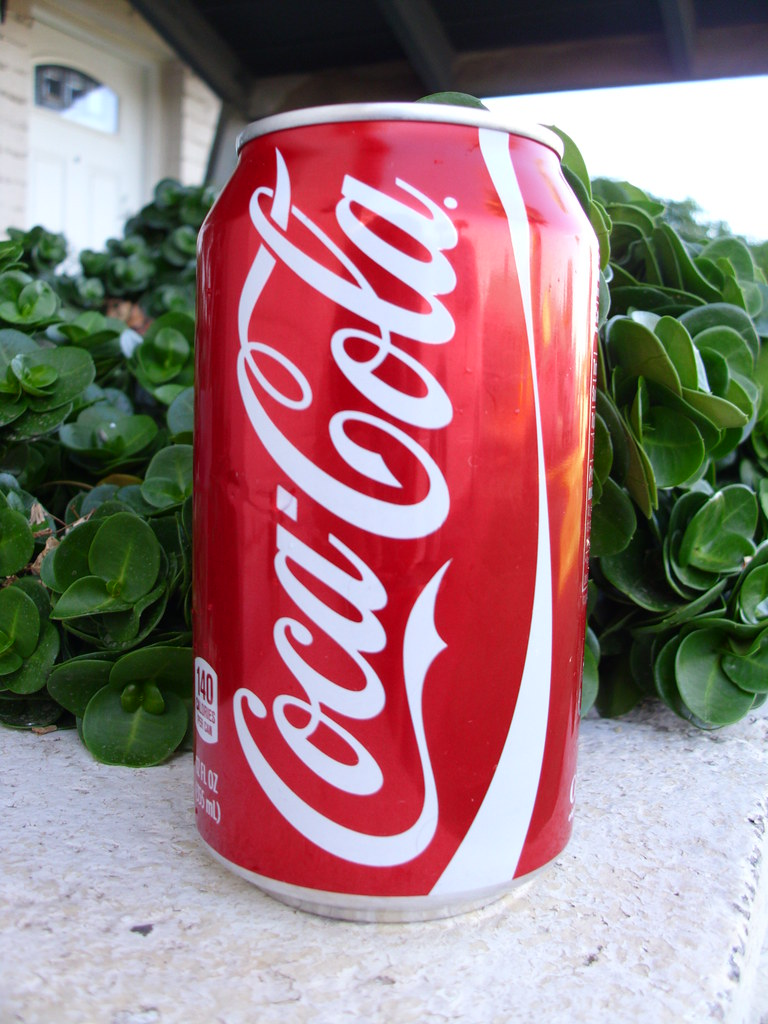coke: (227, 157, 474, 869)
